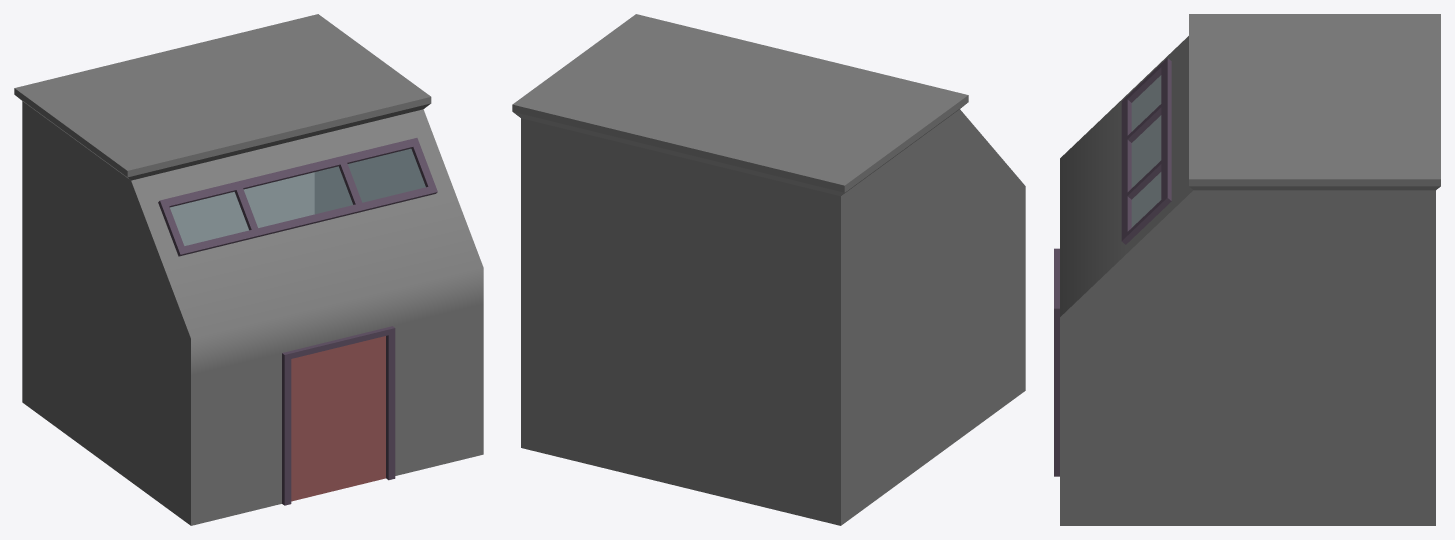
File: building_A.fbx
3 views of the same model, side by side, from view 1: azimuth 30°, elevation 25°; view 2: azimuth 150°, elevation 25°; view 3: azimuth 270°, elevation 25° (orthographic). The views are drawn at different scales.
Visible parts, largest first — view 1: building_A; view 2: building_A; view 3: building_A.
Part boxes in pixels (bbox=[...]): building_A: bbox=[14, 14, 483, 525]; building_A: bbox=[512, 14, 1025, 525]; building_A: bbox=[1054, 14, 1440, 525].
Bounding box in the file's own units: 3.36 × 3.32 × 3.33.
